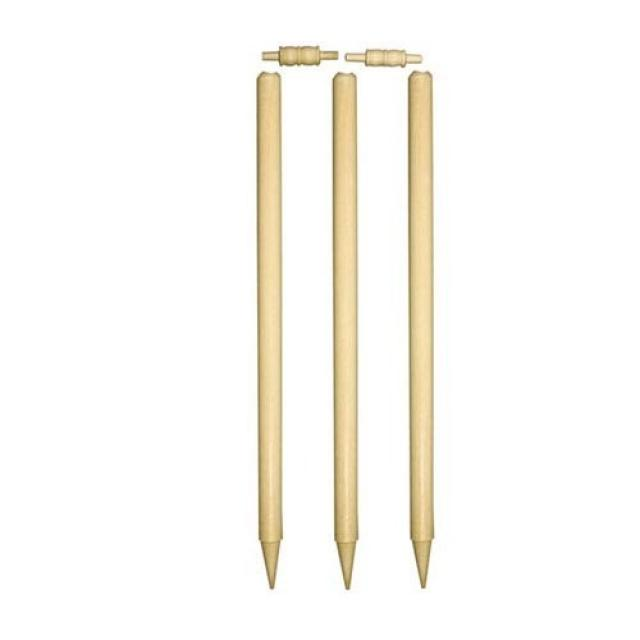stump: (256, 39, 436, 588)
